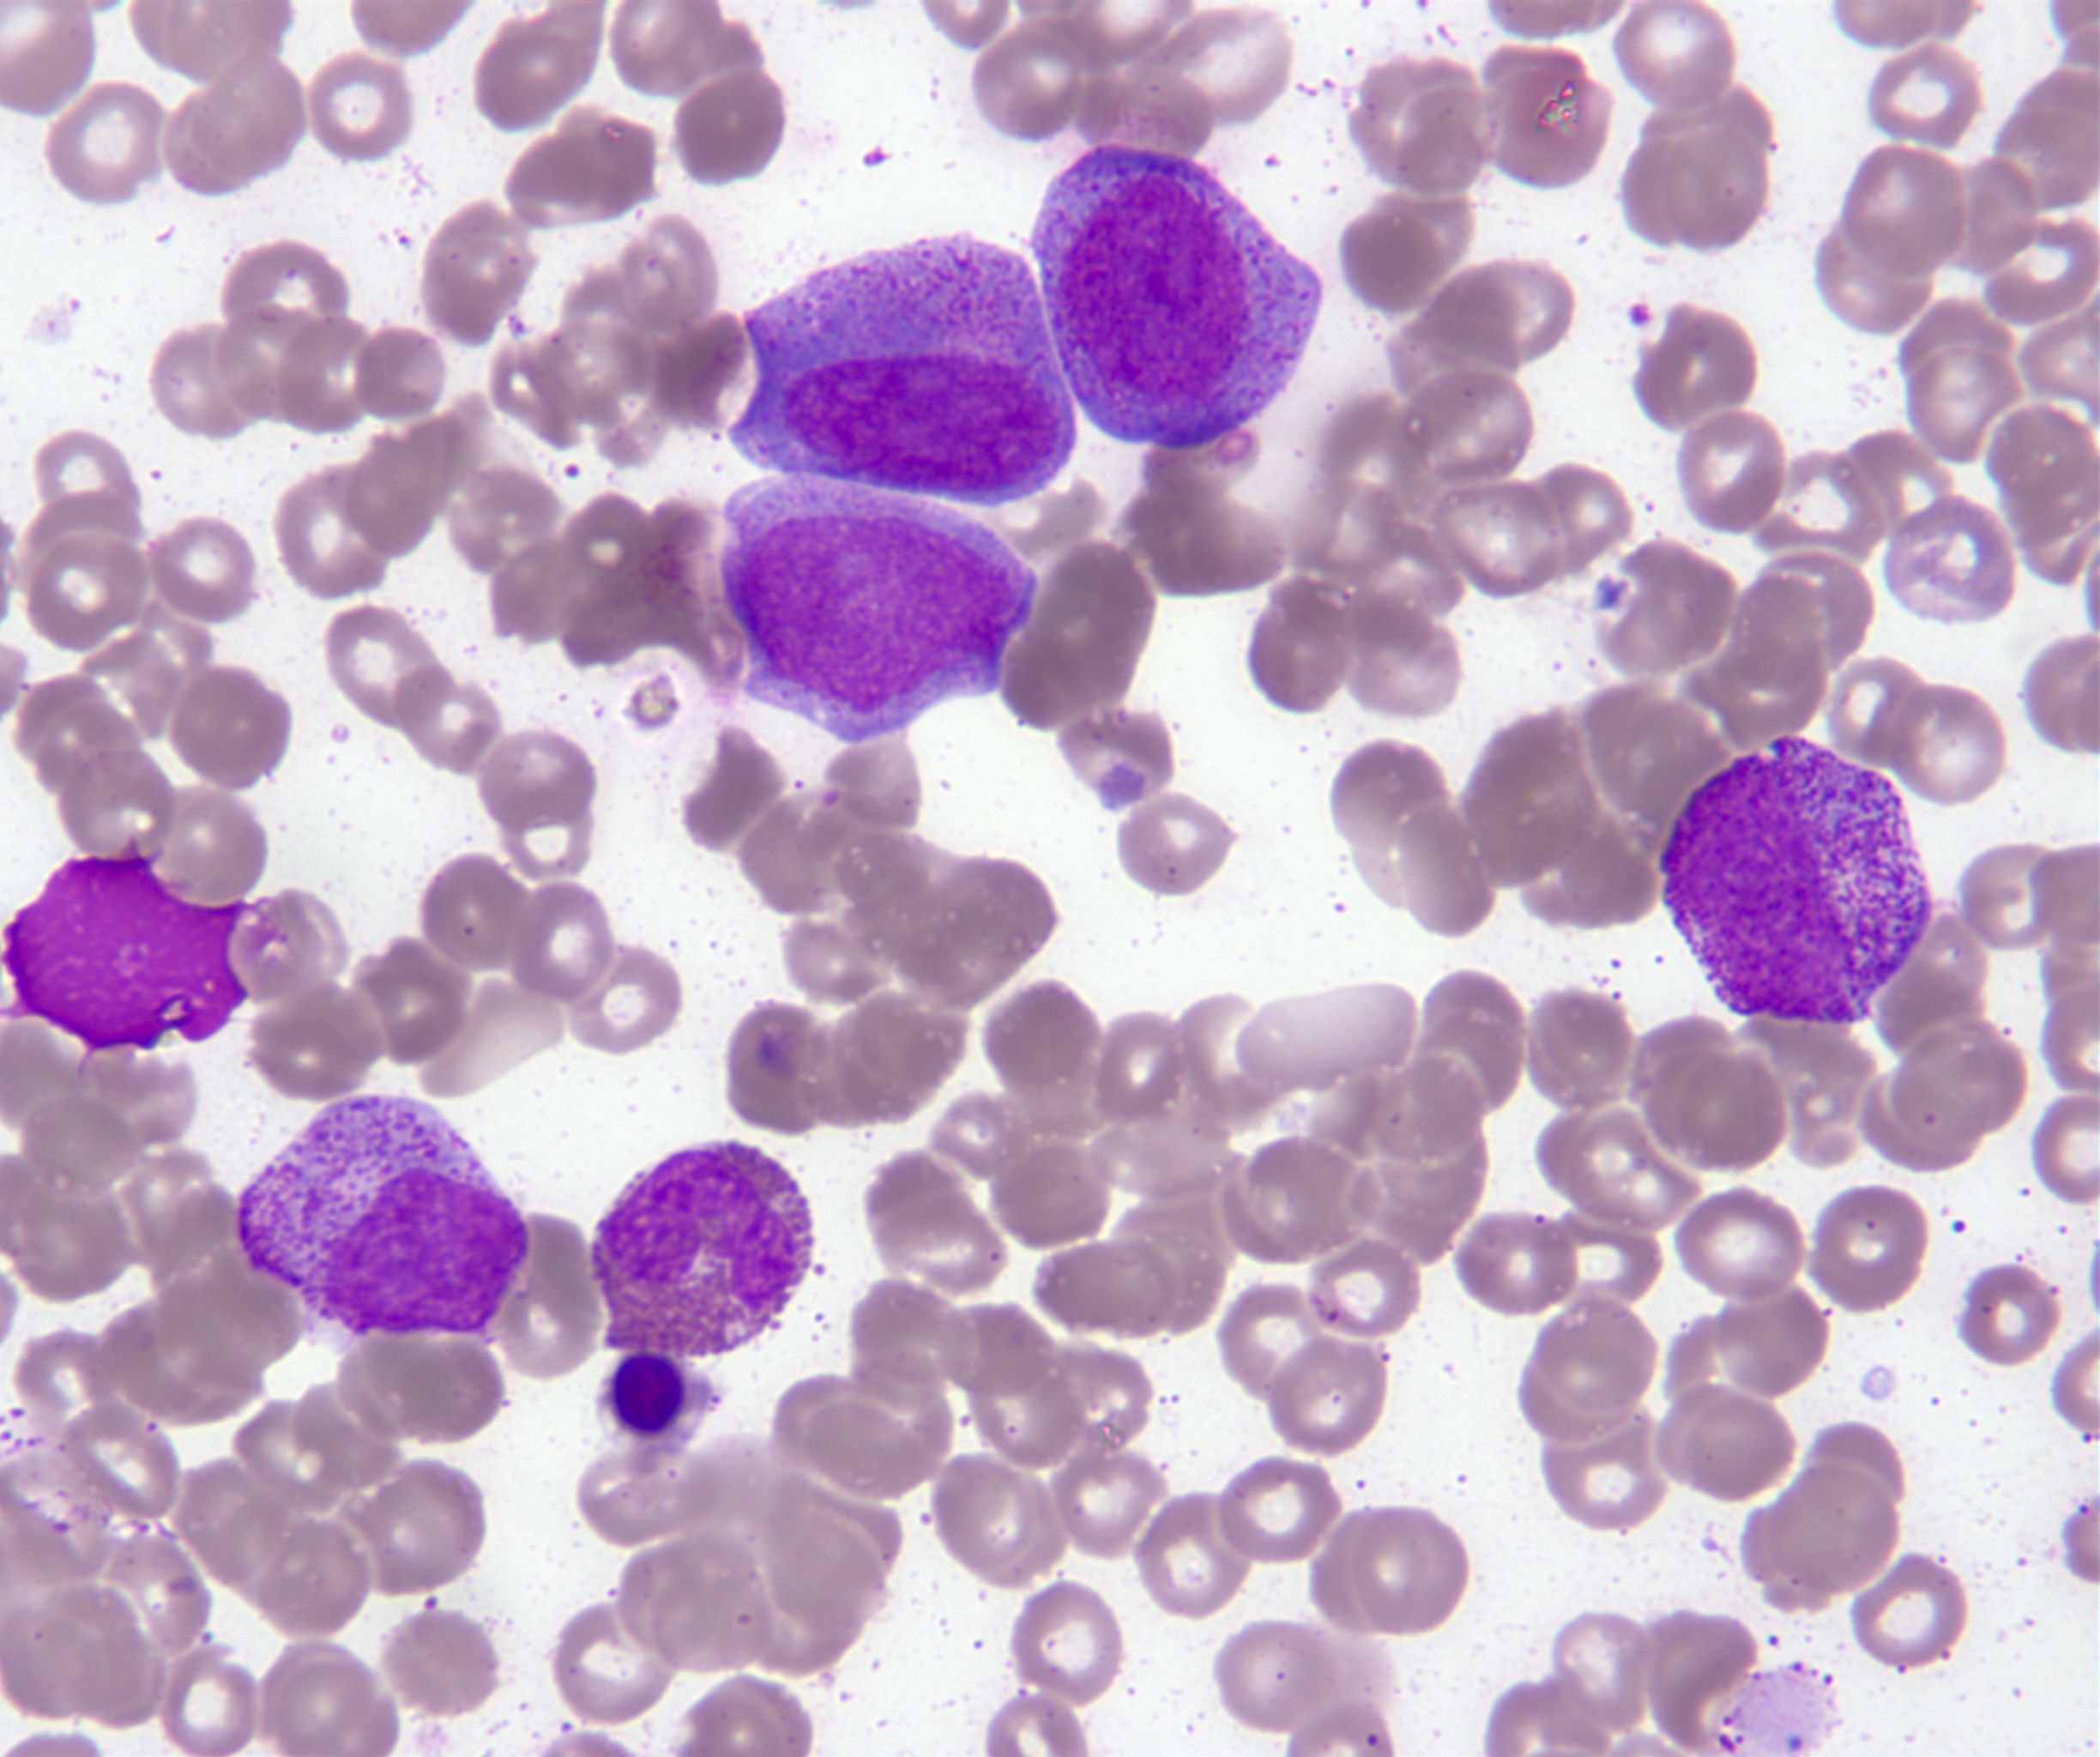2: (726, 234, 1076, 506), (1031, 147, 1320, 450), (722, 476, 1038, 742)
24: (600, 1350, 712, 1473)
3: (1659, 736, 1929, 1022), (237, 1096, 528, 1337)
E3: (593, 1141, 813, 1356)
x: (2, 836, 246, 1050)
